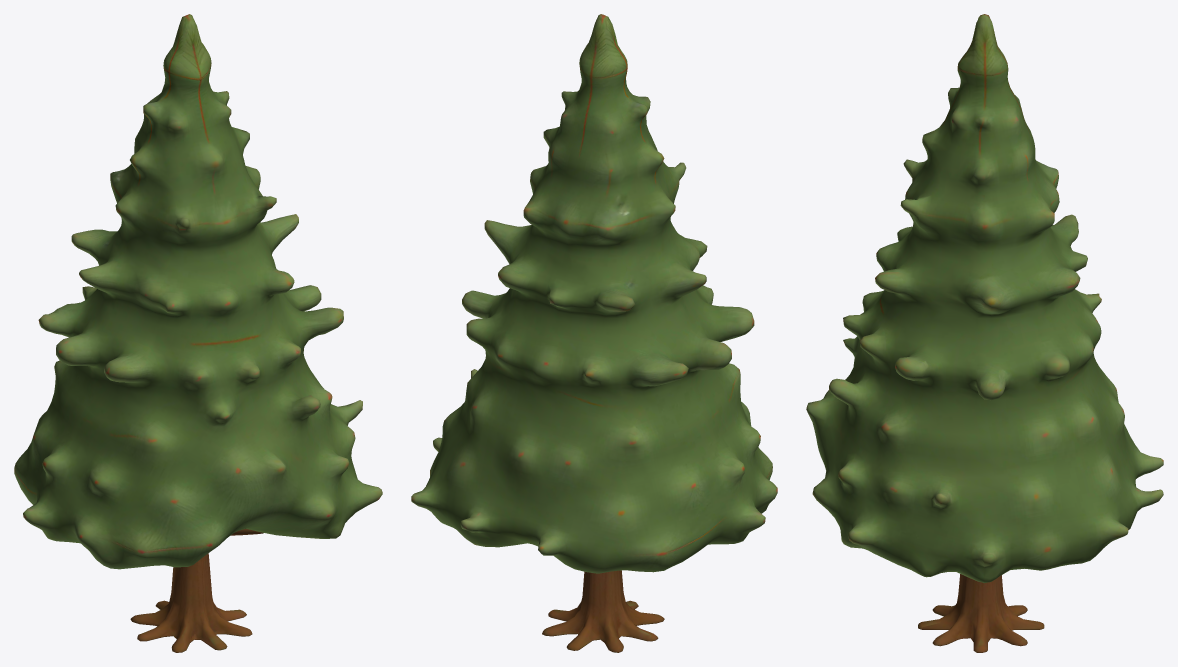
File: Nature__a_pine_tree_0524bc92_v1.cluster.glb
3 renders of one model, left to right at view 1: azimuth 30°, elevation 25°; view 2: azimuth 150°, elevation 25°; view 3: azimuth 270°, elevation 25°, orthographic.
Parts seen in each view (by area): view 1: material; view 2: material; view 3: material.
Part boxes in pixels (box(x1,y1,x2,y2)): material: box(14, 14, 382, 652); material: box(411, 14, 777, 652); material: box(806, 14, 1163, 652).
Bounding box in the file's own units: 1.07 × 1.9 × 1.01.
1 material, 1 textured.
